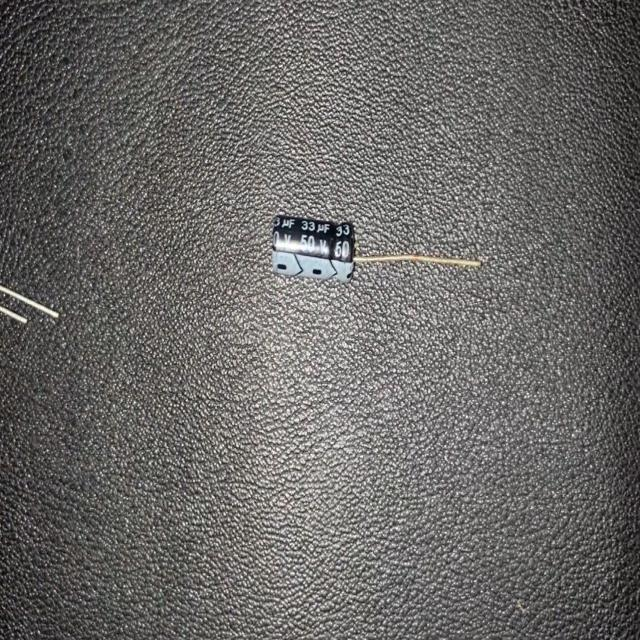missing-leg: (271, 209, 484, 286)
